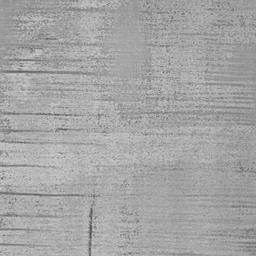Waist folding: (0, 0, 256, 256), (197, 196, 256, 255)
